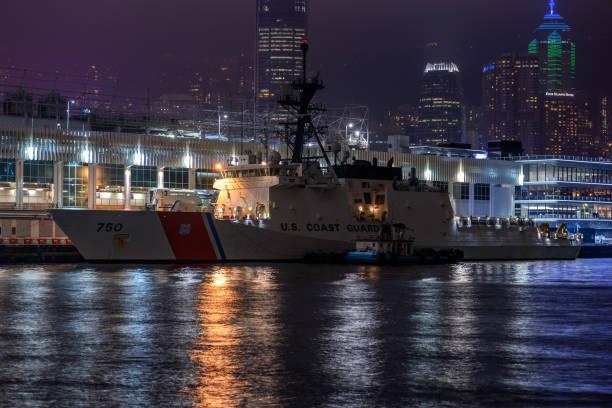MIL_Ship: (42, 133, 585, 264)
